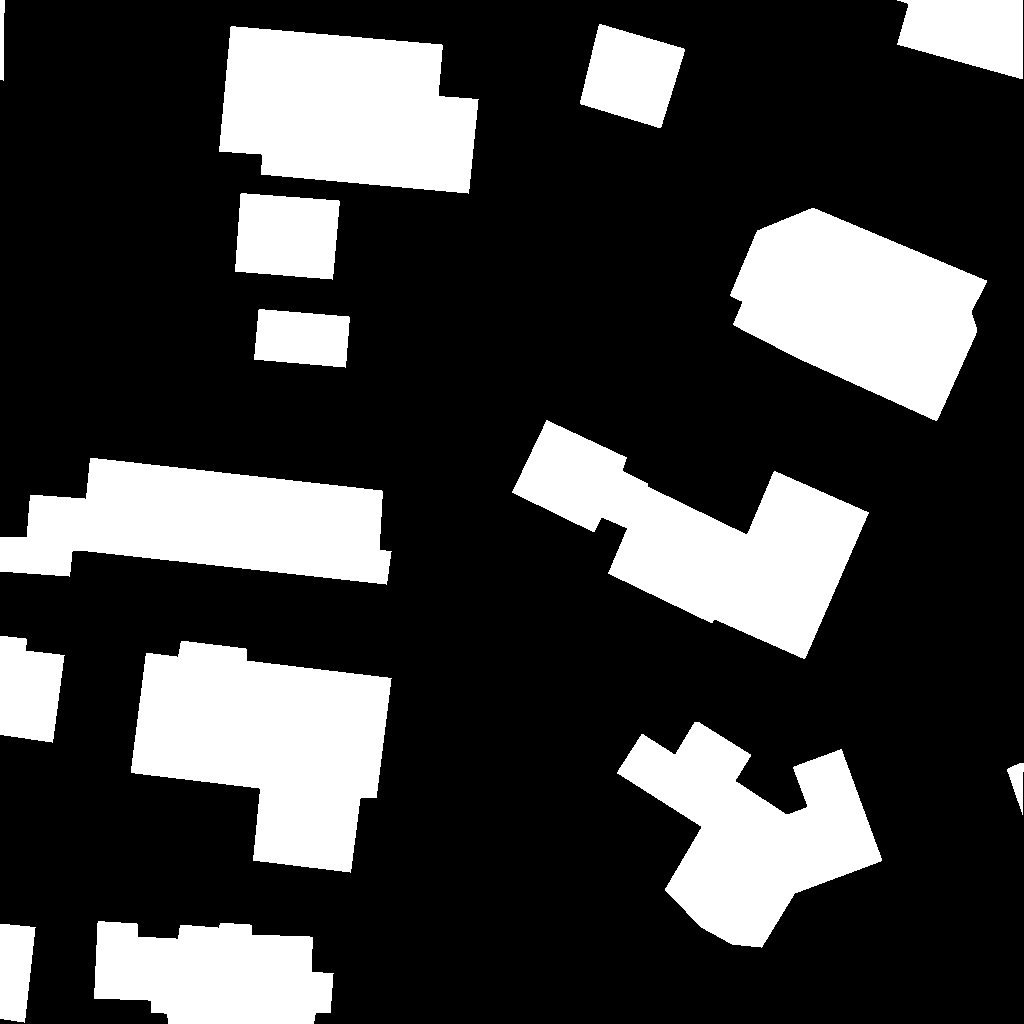building: (512, 420, 870, 660), (131, 641, 392, 873), (617, 721, 883, 948), (730, 208, 988, 422), (0, 458, 392, 585), (219, 26, 479, 194), (94, 921, 334, 1024), (580, 24, 686, 129), (896, 0, 1024, 80), (235, 193, 341, 280), (0, 636, 65, 743), (254, 309, 351, 368), (0, 924, 36, 1023), (1007, 763, 1024, 817), (0, 0, 5, 81)
